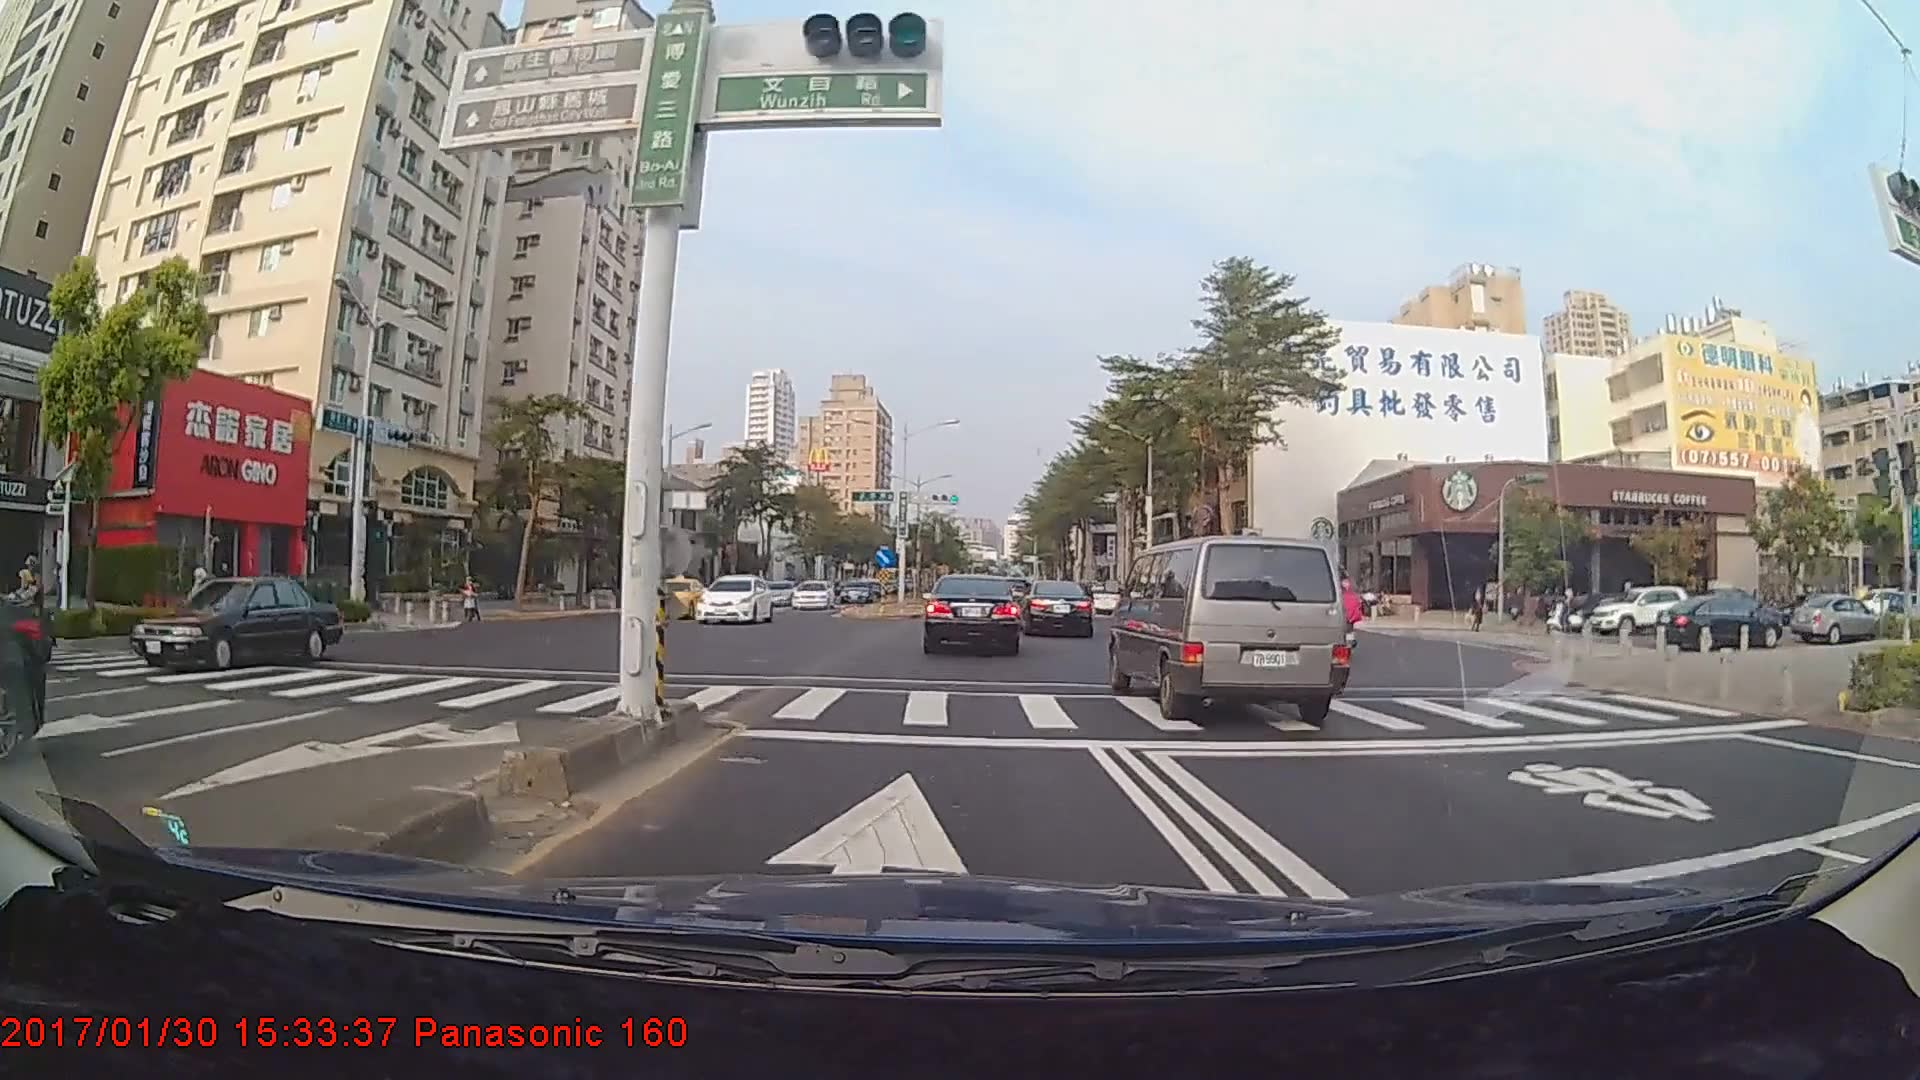rider: (1, 551, 53, 654), (1551, 584, 1595, 637)
vehicle: (1117, 530, 1351, 725), (128, 575, 337, 674), (922, 573, 1023, 655), (1665, 583, 1794, 648), (1587, 584, 1689, 636), (1788, 593, 1884, 646), (1018, 578, 1093, 639), (693, 573, 773, 623), (788, 579, 835, 610), (837, 578, 877, 604)
